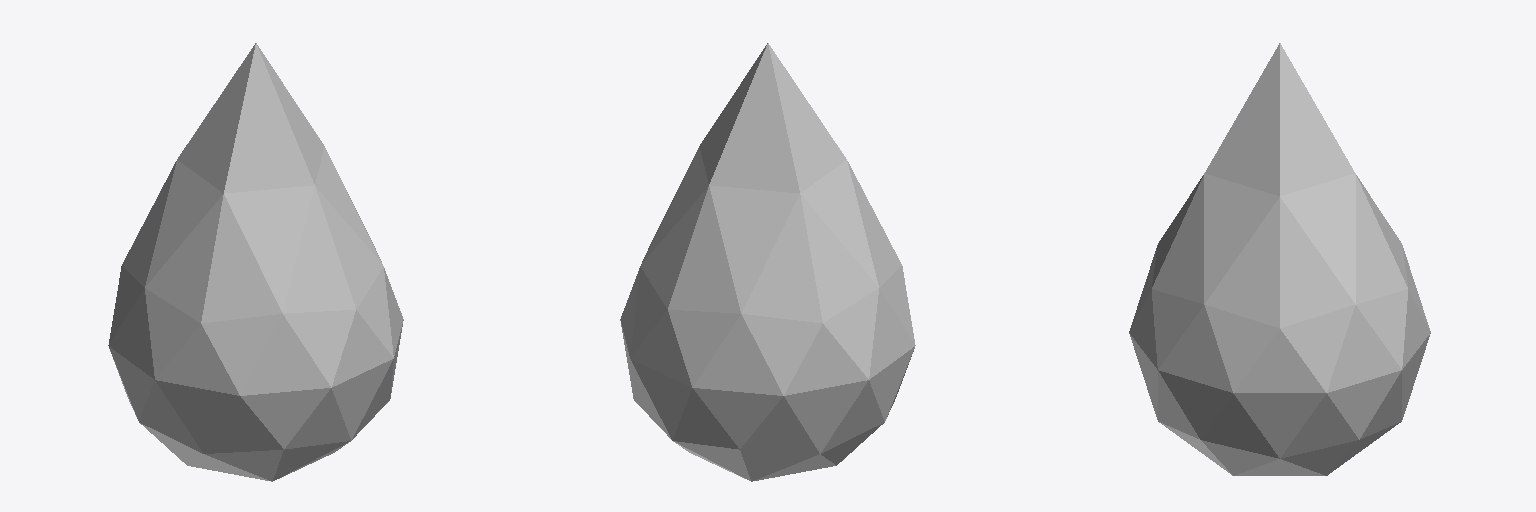
File: drop.obj
The picture shows the model from 3 angles: view 1: azimuth 30°, elevation 25°; view 2: azimuth 150°, elevation 25°; view 3: azimuth 270°, elevation 25°; orthographic projection.
Parts seen in each view (by area): view 1: Icosphere; view 2: Icosphere; view 3: Icosphere.
Boxes of the visible parts, x1=… form: Icosphere: x1=108, y1=43, x2=403, y2=481; Icosphere: x1=620, y1=43, x2=915, y2=481; Icosphere: x1=1129, y1=43, x2=1430, y2=475.
Bounding box in the file's own units: 0.044 × 0.0722 × 0.0463.